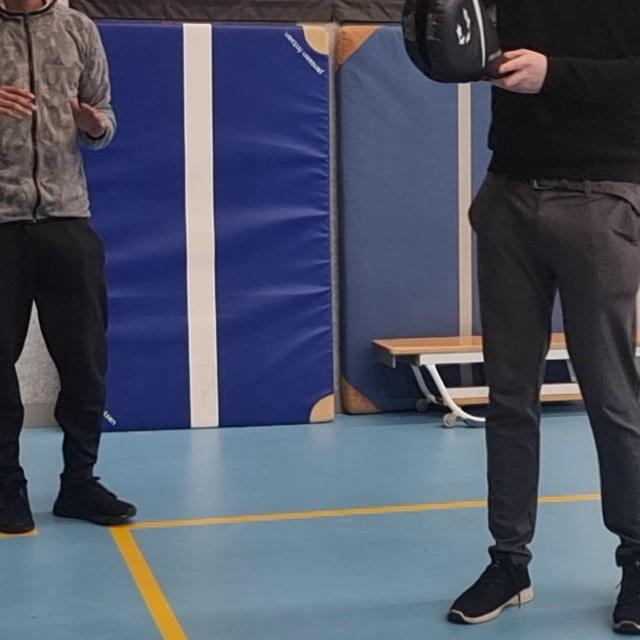paddle: (399, 0, 505, 83)
